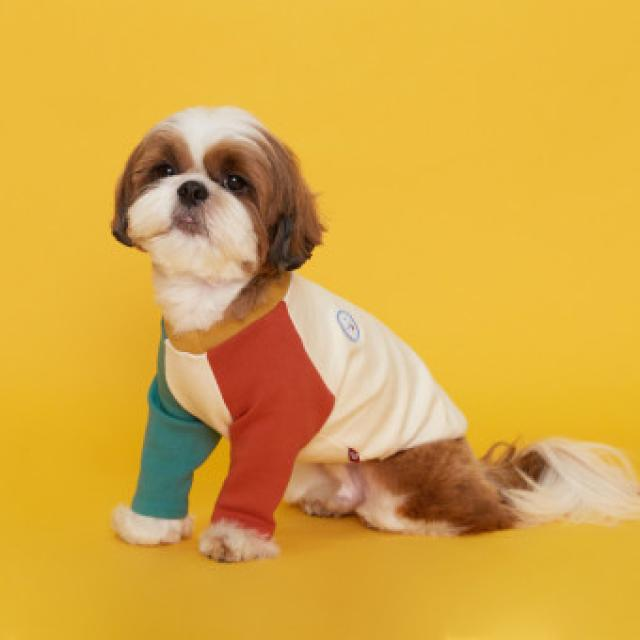cloth: (131, 271, 466, 556)
